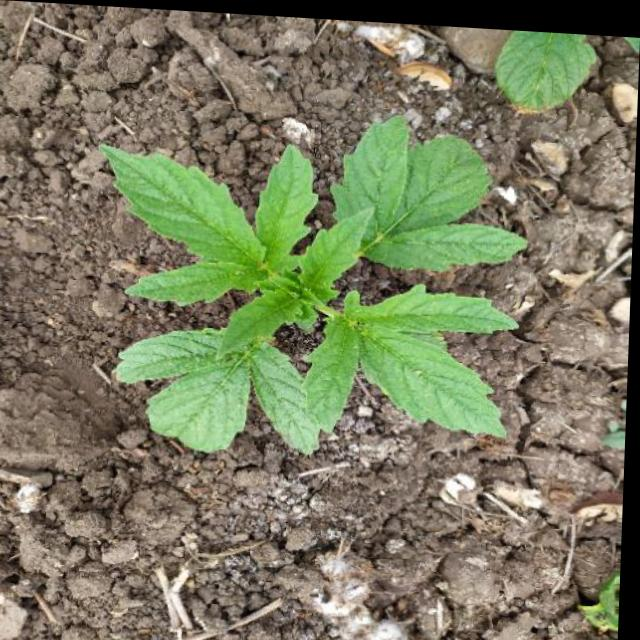weed: (88, 87, 526, 466)
